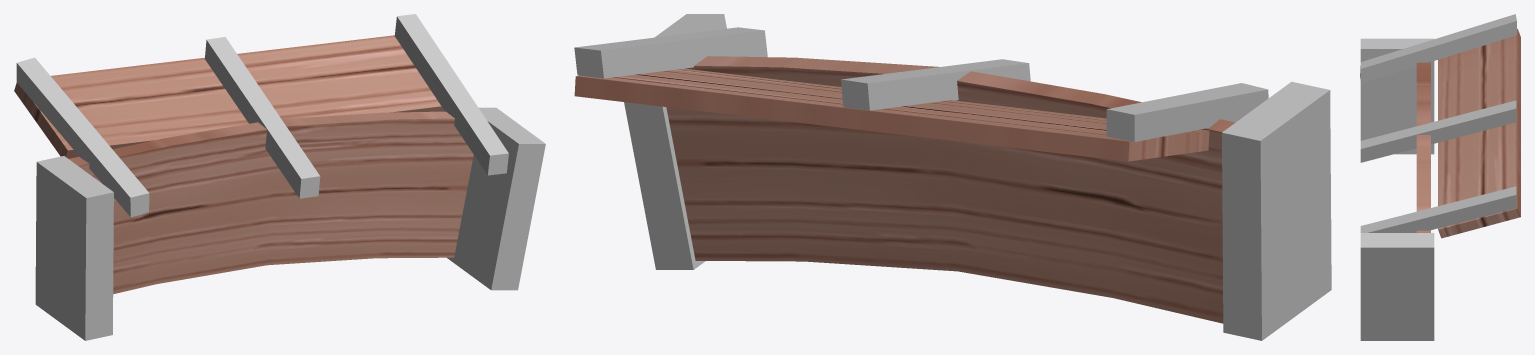
File: Bancs_Debarcadere.fbx
3 views of the same model, side by side, from view 1: azimuth 30°, elevation 25°; view 2: azimuth 150°, elevation 25°; view 3: azimuth 270°, elevation 25° (orthographic). The views are drawn at different scales.
Visible parts, largest first — view 1: BancFDM.002, BancFDM.004; view 2: BancFDM.002, BancFDM.004; view 3: BancFDM.004, BancFDM.002.
Part boxes in pixels (<box>): BancFDM.002: <box>14,35,473,293</box>; BancFDM.004: <box>16,14,545,340</box>; BancFDM.002: <box>574,56,1235,323</box>; BancFDM.004: <box>574,14,1331,340</box>; BancFDM.004: <box>1360,14,1516,340</box>; BancFDM.002: <box>1416,28,1520,238</box>.
Size of the model in its own units: 242 by 125 by 98.99.
